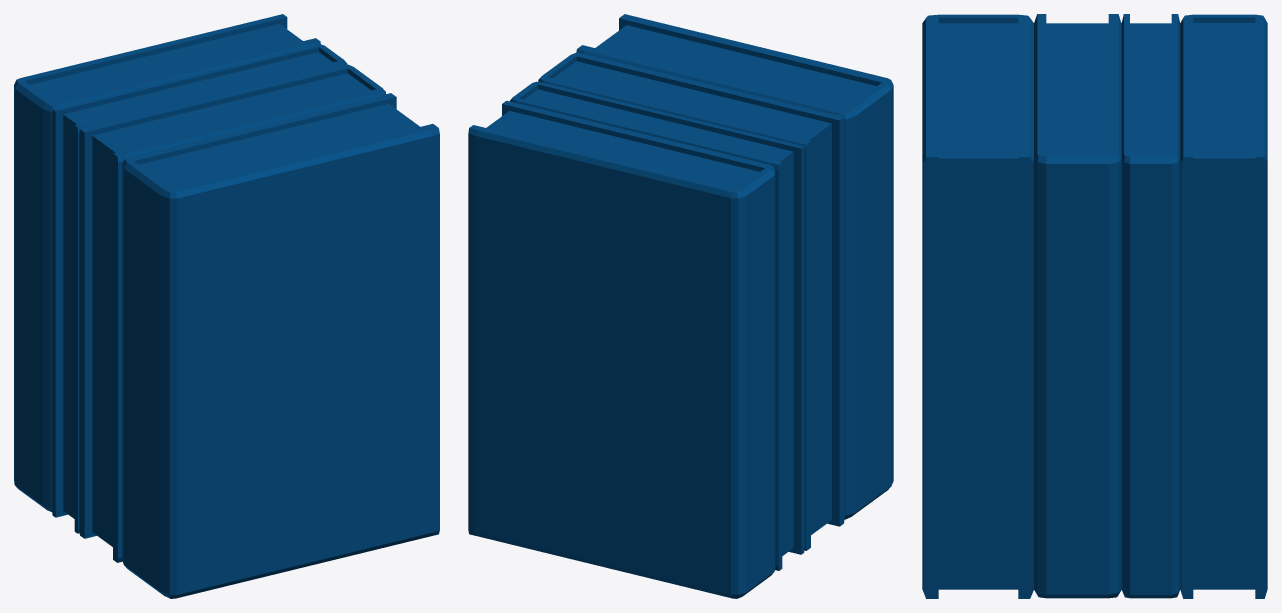
File: Book_Multi_02.fbx
3 renders of one model, left to right at view 1: azimuth 30°, elevation 25°; view 2: azimuth 150°, elevation 25°; view 3: azimuth 270°, elevation 25°, orthographic. The views are drawn at different scales.
Visible parts, largest first — view 1: Book_Multi_02; view 2: Book_Multi_02; view 3: Book_Multi_02.
Part boxes in pixels (x1,y1,x2,y2): Book_Multi_02: (14,14,439,598); Book_Multi_02: (468,14,893,598); Book_Multi_02: (922,14,1267,598).
Bounding box in the file's own units: 20.75 × 29.29 × 20.75.
